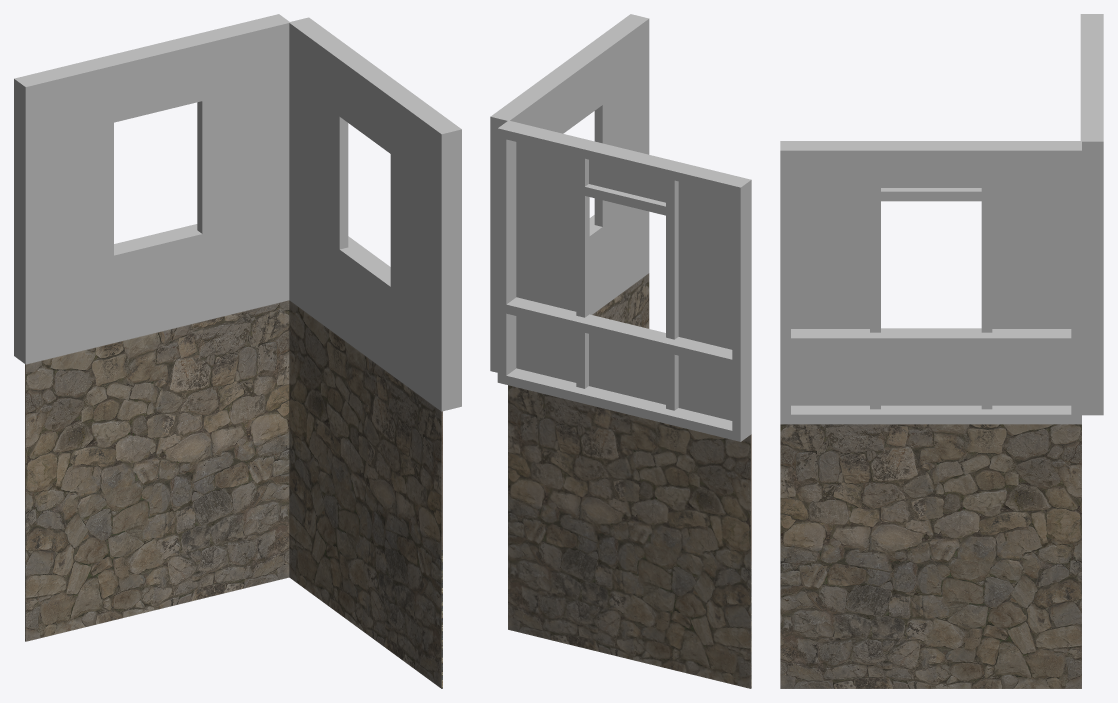
The model's file is HouseCorner_2x2_v1.fbx.
The picture shows the model from 3 angles, left to right: view 1: azimuth 30°, elevation 25°; view 2: azimuth 150°, elevation 25°; view 3: azimuth 270°, elevation 25°; orthographic projection. The views are drawn at different scales.
Visible parts, largest first — view 1: Plane.092; view 2: Plane.092; view 3: Plane.092.
Boxes of the visible parts, x1,y1,x2,y2 form: Plane.092: (14, 14, 461, 688); Plane.092: (490, 14, 751, 688); Plane.092: (780, 14, 1103, 688).
Bounding box in the file's own units: 214 × 400 × 214.
